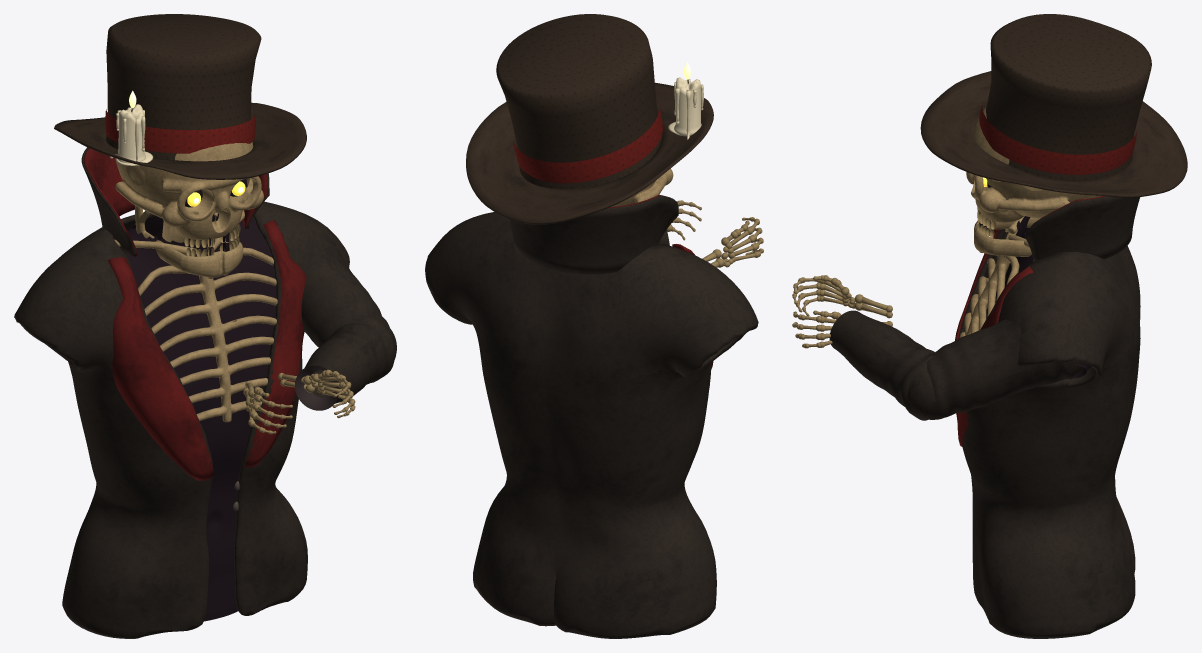
File: bone_man.glb
3 renders of one model, left to right at view 1: azimuth 30°, elevation 25°; view 2: azimuth 150°, elevation 25°; view 3: azimuth 270°, elevation 25°, orthographic.
Visible parts, largest first — view 1: Body, Void_Chest, Hat_Crown, Body_LapelL, Body_Ribs, Face, Hat_Brim, Body_LapelR, SleeveFore, SleeveUpper, Hat_Band, Jaw_Bone (+5 smaller); view 2: Body, Hat_Crown, Hat_Brim, Body_Collar, Hat_Band, Candle, Hand_L, Face; view 3: Body, Hat_Crown, Hat_Brim, SleeveUpper, SleeveFore, Body_Collar, Face, Hat_Band, Body_Ribs, Hand_L, Jaw_Bone, Hand_R (+2 smaller).
Boxes of the visible parts, x1,y1,x2,y2 form: Body: (14, 201, 349, 638); Void_Chest: (125, 216, 275, 621); Hat_Crown: (106, 14, 261, 160); Body_LapelL: (107, 257, 213, 480); Body_Ribs: (114, 210, 277, 422); Face: (115, 142, 263, 239); Hat_Brim: (54, 102, 306, 179); Body_LapelR: (244, 220, 306, 467); SleeveFore: (295, 316, 396, 410); SleeveUpper: (301, 245, 396, 358); Hat_Band: (105, 109, 255, 153); Jaw_Bone: (135, 205, 243, 278); Body: (425, 212, 758, 638); Hat_Crown: (496, 14, 662, 189); Hat_Brim: (466, 82, 713, 224); Body_Collar: (509, 195, 678, 274); Hat_Band: (513, 105, 662, 183); Candle: (668, 77, 703, 139); Hand_L: (702, 217, 763, 267); Face: (611, 168, 673, 206); Body: (958, 229, 1140, 638); Hat_Crown: (986, 14, 1151, 179); Hat_Brim: (920, 71, 1187, 197); SleeveUpper: (908, 319, 1088, 419); SleeveFore: (829, 310, 942, 420); Body_Collar: (1024, 196, 1140, 261); Face: (966, 107, 1102, 222); Hat_Band: (979, 102, 1136, 174); Body_Ribs: (959, 216, 1029, 337); Hand_L: (792, 275, 892, 318); Jaw_Bone: (974, 217, 1039, 256); Hand_R: (792, 310, 892, 348).
Size of the model in its own units: 0.9065 by 1.53 by 0.9909.
Materials: 16 (7 with a texture image).
